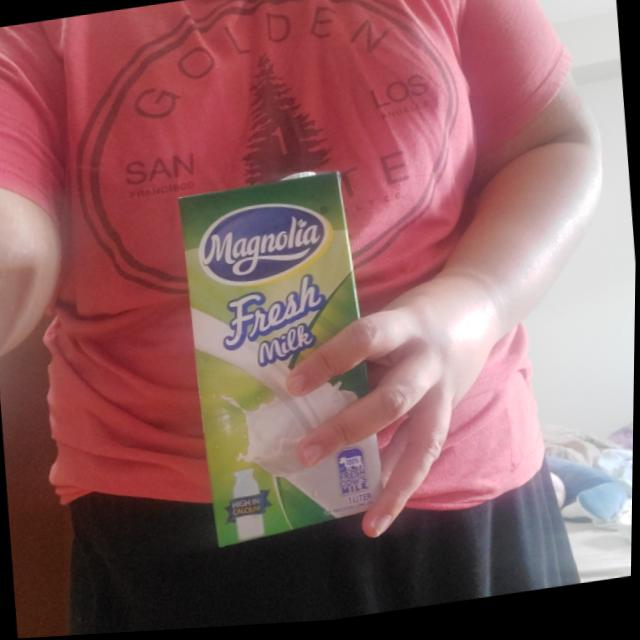milk: (172, 162, 394, 556)
